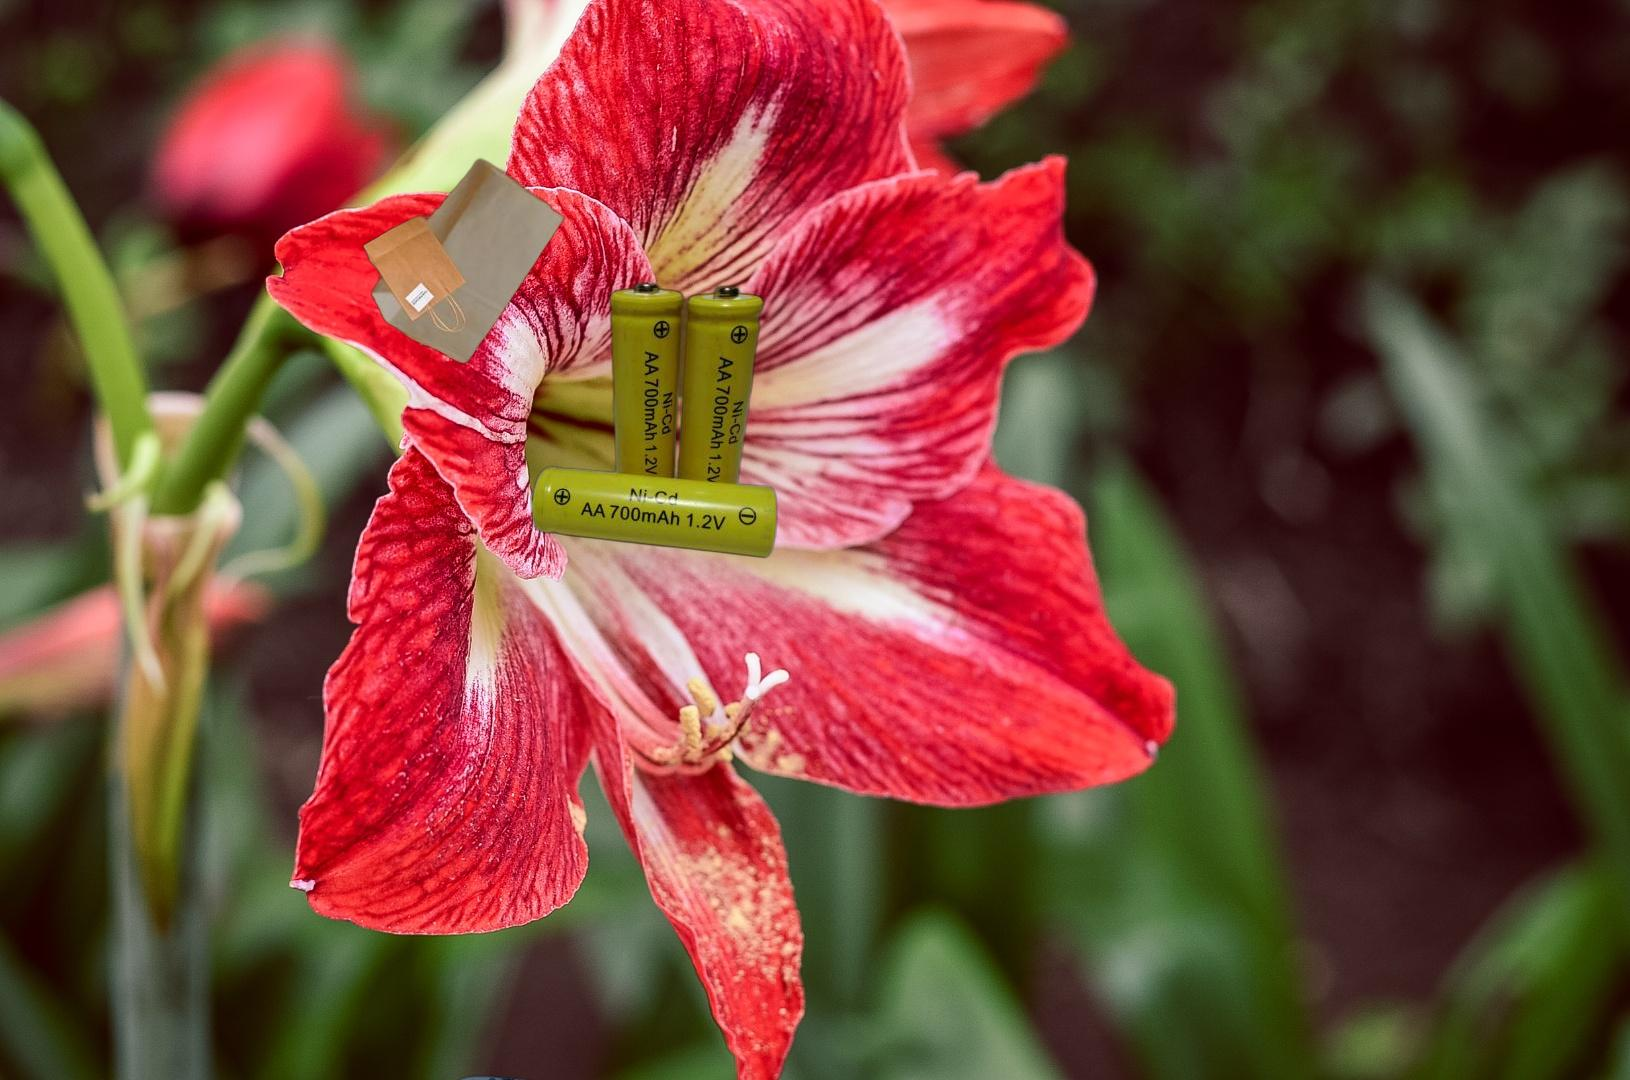battery: (384, 278, 781, 563)
metal-cans: (394, 1072, 647, 1080)
paper-bag: (360, 155, 569, 365)
